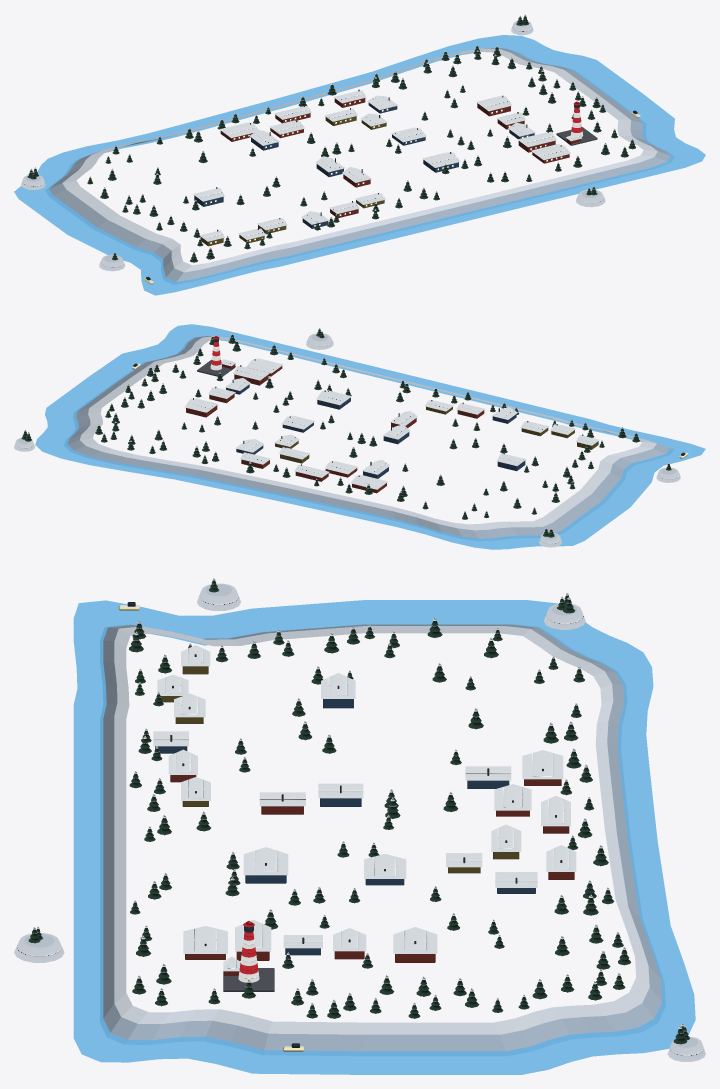
Rendered from by_polar.glb.
3 renders of one model, top to bottom at view 1: azimuth 30°, elevation 25°; view 2: azimuth 150°, elevation 25°; view 3: azimuth 270°, elevation 25°, orthographic. The views are drawn at different scales.
Visible parts, largest first — view 1: Lavt vand_net, Stranden_net, Byen_net, Palmer_net, Holme_net, Fyret_net; view 2: Lavt vand_net, Stranden_net, Byen_net, Palmer_net, Holme_net, Fyret_net; view 3: Lavt vand_net, Stranden_net, Byen_net, Palmer_net, Holme_net, Fyret_net.
Boxes of the visible parts, <box> form: Lavt vand_net: <box>14,35,705,295</box>; Stranden_net: <box>46,48,671,282</box>; Byen_net: <box>193,89,570,246</box>; Palmer_net: <box>87,44,635,262</box>; Holme_net: <box>21,20,605,271</box>; Fyret_net: <box>556,101,597,145</box>; Lavt vand_net: <box>35,324,705,549</box>; Stranden_net: <box>67,336,670,540</box>; Byen_net: <box>184,358,599,493</box>; Palmer_net: <box>95,333,639,519</box>; Holme_net: <box>14,333,680,547</box>; Fyret_net: <box>197,336,235,376</box>; Lavt vand_net: <box>73,600,695,1074</box>; Stranden_net: <box>100,624,664,1055</box>; Byen_net: <box>153,645,576,962</box>; Palmer_net: <box>129,617,630,1018</box>; Holme_net: <box>14,583,705,1061</box>; Fyret_net: <box>223,921,274,991</box>.
Bounding box in the file's own units: 97.27 × 6.9 × 58.98.
